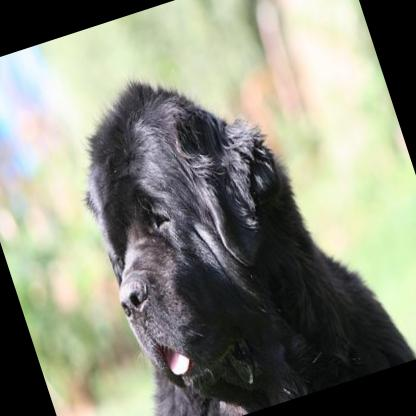Newfoundland: (52, 23, 416, 416)
